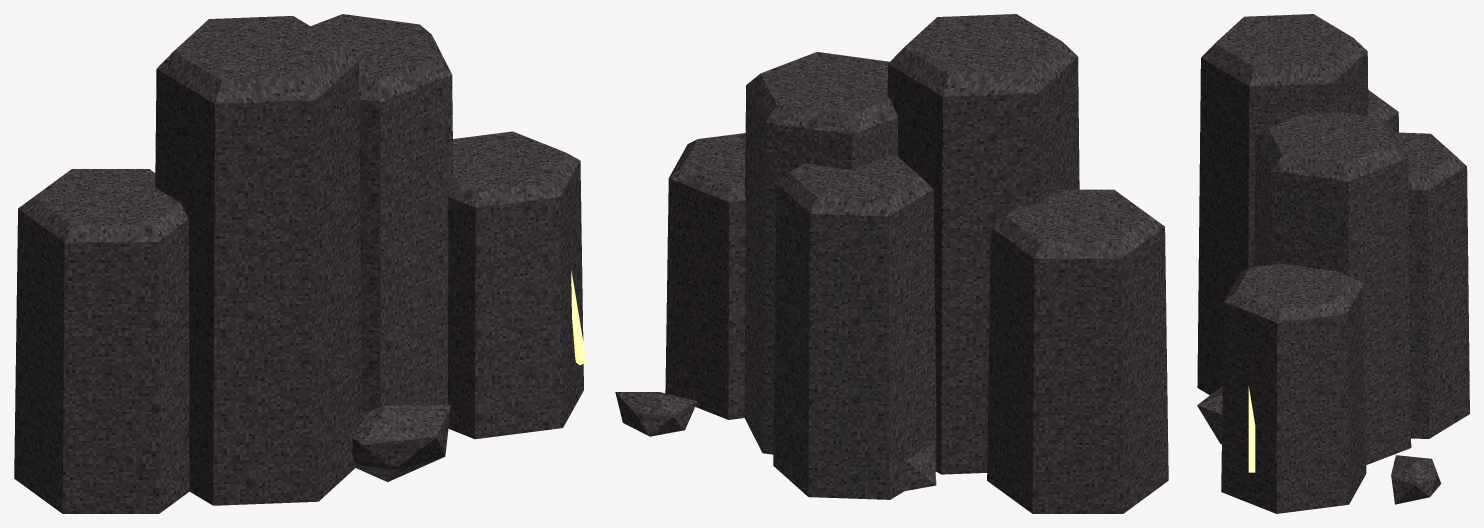
File: cover_basalt.glb
3 views of the same model, side by side, from view 1: azimuth 30°, elevation 25°; view 2: azimuth 150°, elevation 25°; view 3: azimuth 270°, elevation 25° (orthographic). The views are drawn at different scales.
Visible parts, largest first — view 1: Body.002; view 2: Body.002; view 3: Body.002.
Boxes of the visible parts, box(x1,y1,x2,y2) form: Body.002: box(14, 14, 586, 513); Body.002: box(615, 14, 1168, 513); Body.002: box(1197, 14, 1469, 513).
Size of the model in its own units: 2.6 by 2.12 by 1.44.
2 materials, 1 textured.
